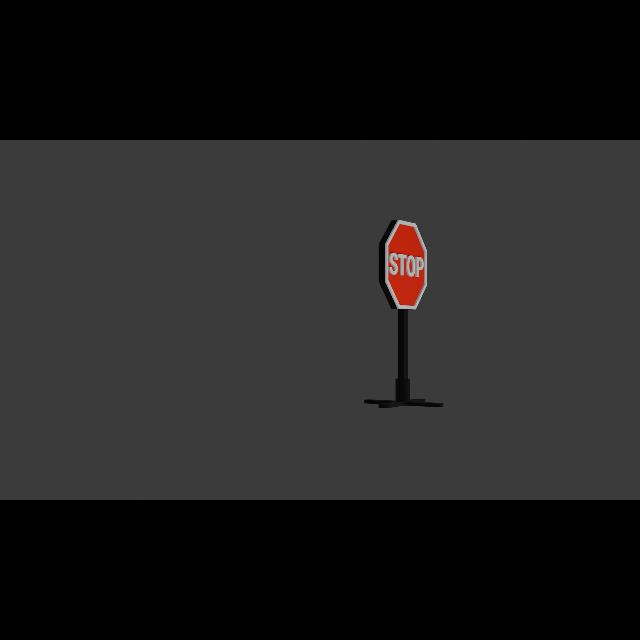sign_stop: (378, 222, 430, 310)
